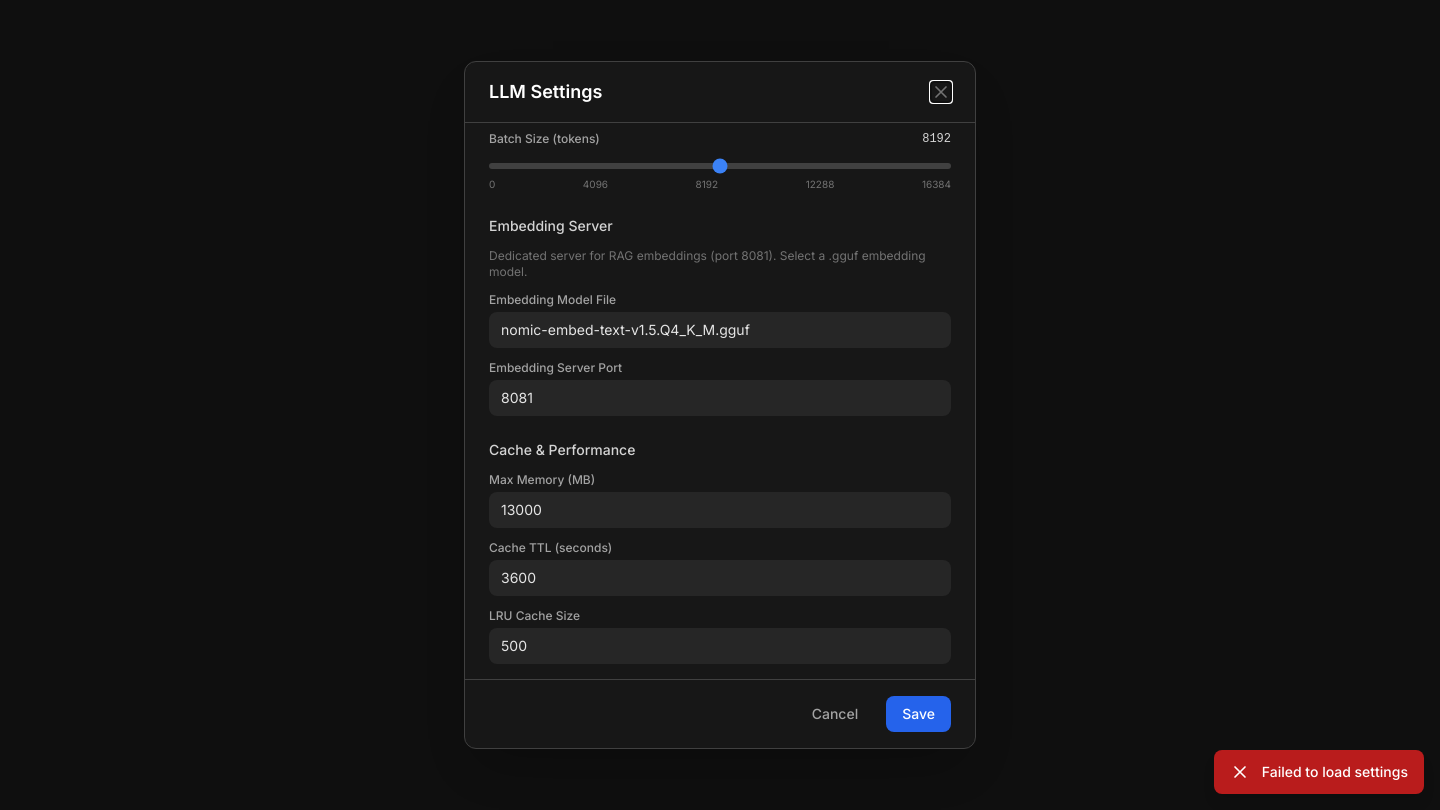
it: SettingsModal › should show validation error for negative number
The image size is (1440, 810).
(page scrolled)
Type "-100" into the number field labelled "Max Memory (MB)" at (720, 510), box [489,492,951,528]
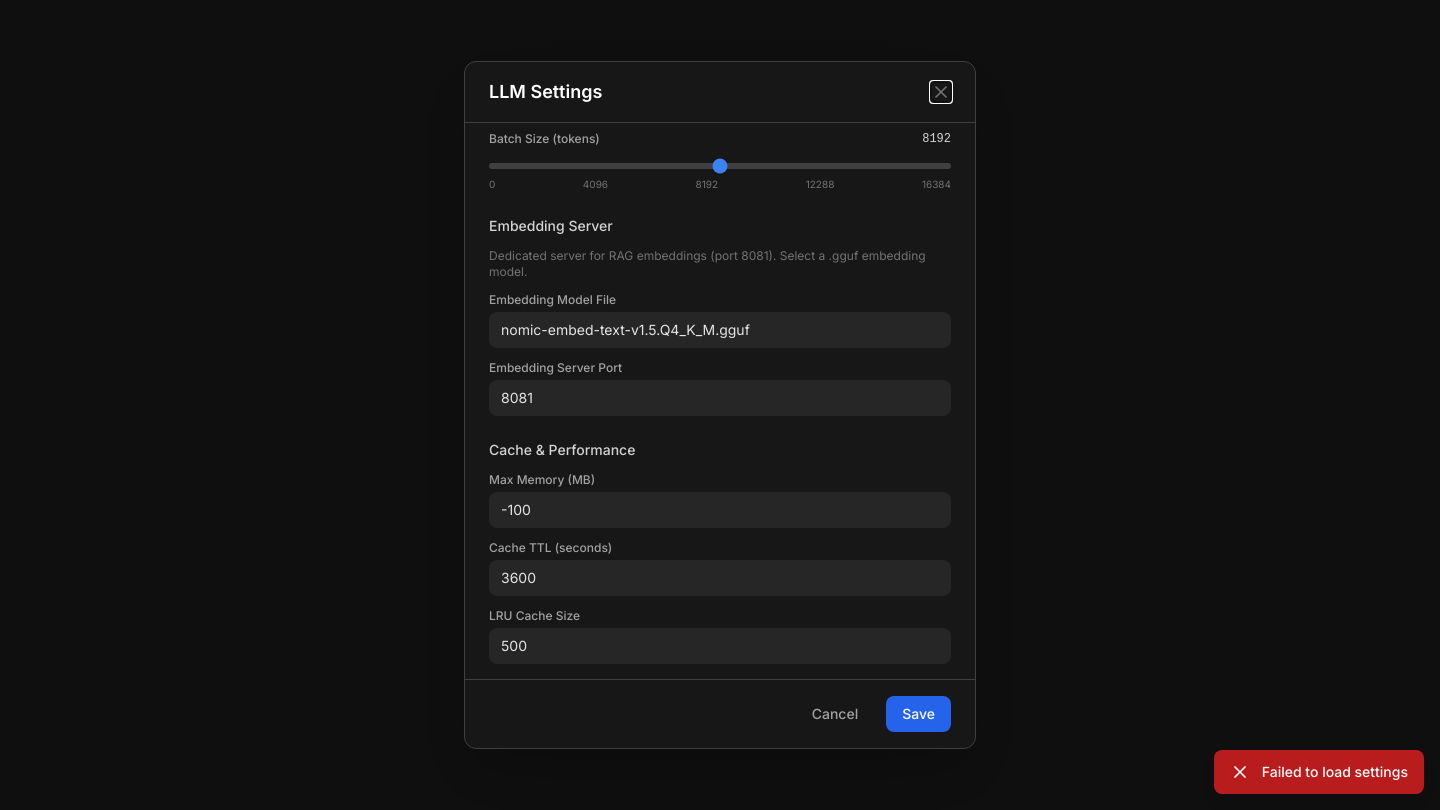
Click the button with test id "settings-save-btn" at (919, 714), box [886,696,951,732]
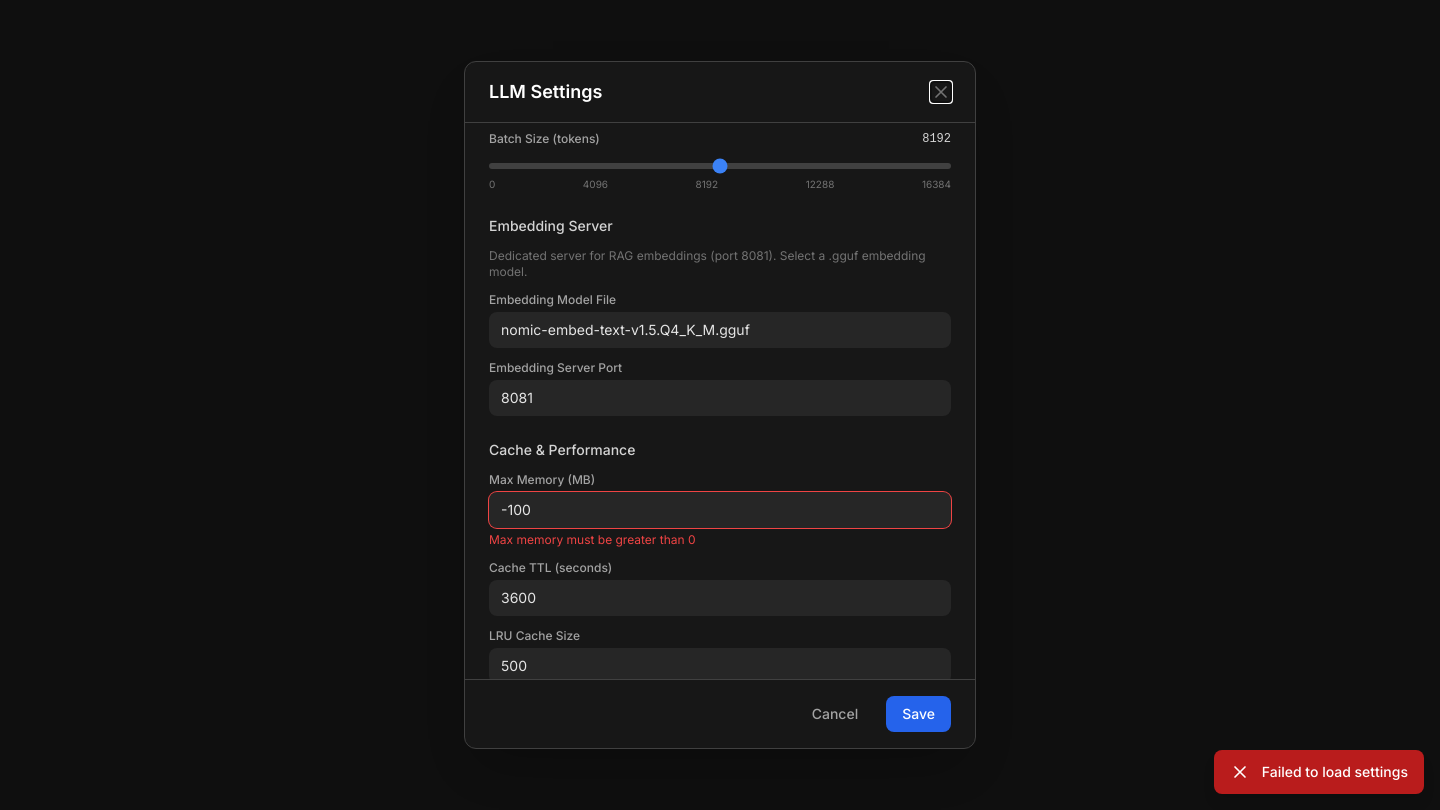
Result: the message with test id "error-maxMemoryMb" shows "greater than 0" at [489,532,696,547]
